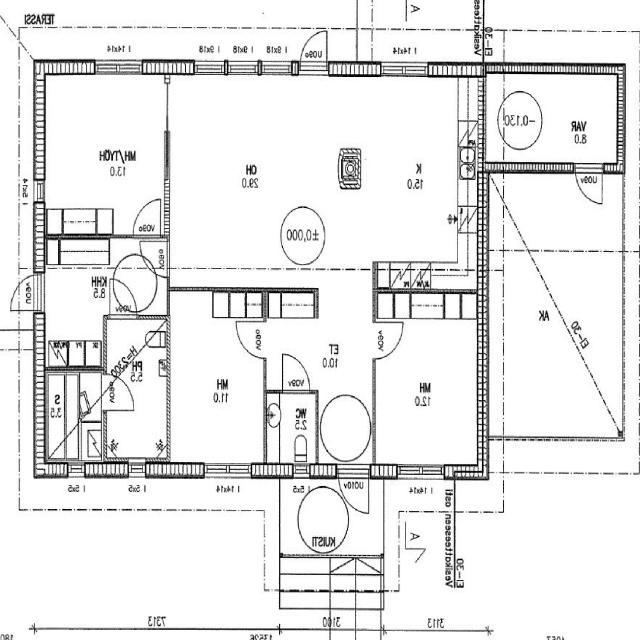door: (338, 464, 368, 519), (7, 275, 45, 311), (301, 24, 327, 74), (575, 163, 602, 209), (133, 198, 161, 238), (373, 322, 404, 358), (236, 321, 266, 358), (110, 280, 137, 320), (104, 374, 134, 410), (283, 355, 310, 393), (140, 242, 170, 276)
